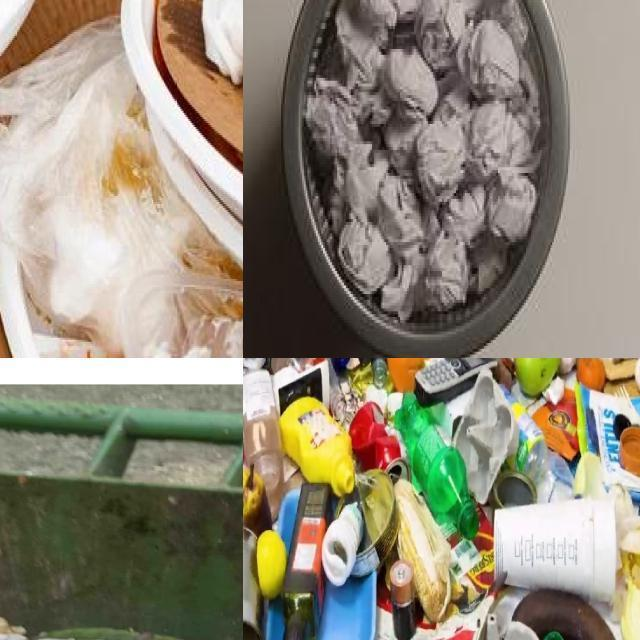Disposable: (121, 0, 243, 223), (148, 111, 243, 264), (493, 499, 616, 601), (0, 243, 41, 358)
E_waste: (414, 358, 498, 406), (321, 501, 364, 586), (389, 560, 416, 640)
Garbage: (243, 358, 640, 640)
Glass_bottle: (283, 485, 331, 640), (312, 358, 349, 425)
Paper: (305, 0, 540, 324)
Plastic: (309, 573, 377, 640), (277, 487, 299, 550), (620, 426, 640, 477), (264, 597, 285, 640)
Plastic_Container: (279, 398, 354, 496), (243, 369, 283, 490)
Plastic_bottle: (394, 392, 479, 538), (504, 389, 574, 504)
Plastic_wraper: (410, 510, 495, 640), (533, 389, 578, 461)
Tin_box: (351, 468, 399, 577), (493, 473, 537, 507)
can: (350, 400, 408, 478)
contaminated_waste: (157, 0, 243, 157), (121, 273, 243, 358)
top_view_waste: (300, 0, 546, 319)
